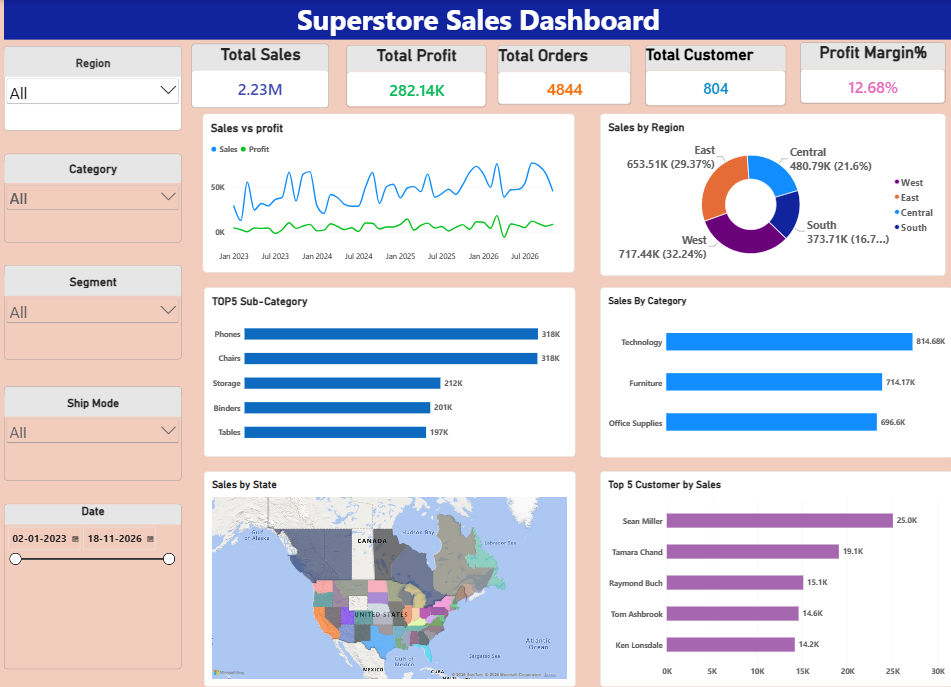

The page's visual inventory and layout, read from the dashboard file:
{"tool":"powerbi","page":{"name":"Page 1","canvas":[2022,1580],"ordinal":0},"visuals":[{"type":"textbox","box":[11.7,0,2009.9,83.9],"z":0},{"type":"cardVisual","title":"Total Sales","fields":{"Data":["Sum(sample_-_superstore.Sales)"]},"box":[409,91.7,291.5,136.3],"z":1000},{"type":"cardVisual","title":"Total Profit","fields":{"Data":["Sum(sample_-_superstore.Profit)"]},"box":[735.7,94,296.2,131.6],"z":2000},{"type":"cardVisual","title":" Total Orders","fields":{"Data":["Count(sample_-_superstore.Order ID)"]},"box":[1055.4,94,282.1,126.9],"z":3000},{"type":"cardVisual","title":"Total Customer","fields":{"Data":["Count(sample_-_superstore.Customer ID)"]},"box":[1368.1,94,298.5,129.3],"z":4000},{"type":"cardVisual","title":"Profit Margin%","fields":{"Data":["sample_-_superstore.profit Margin"]},"box":[1697.1,89.3,307.9,129.3],"z":5000},{"type":"slicer","title":"Region","fields":{"Values":["sample_-_superstore.Region"]},"box":[11.8,98.7,376.1,178.6],"z":6000},{"type":"slicer","title":"Category","fields":{"Values":["sample_-_superstore.Category"]},"box":[11.8,324.4,376.1,188],"z":7000},{"type":"slicer","title":"Segment","fields":{"Values":["sample_-_superstore.Segment"]},"box":[11.8,561.8,376.1,199.8],"z":8000},{"type":"slicer","title":"Ship Mode","fields":{"Values":["sample_-_superstore.Ship Mode"]},"box":[11.8,818,376.1,199.8],"z":9000},{"type":"slicer","title":"Date","fields":{"Values":["sample_-_superstore.Order Date"]},"box":[11.8,1067.2,376.1,350.2],"z":10000},{"type":"lineChart","title":"Sales vs profit","fields":{"Category":["sample_-_superstore.Order Date.Variation.Date Hierarchy.Year","sample_-_superstore.Order Date.Variation.Date Hierarchy.Month"],"Y":["Sum(sample_-_superstore.Sales)","Sum(sample_-_superstore.Profit)"]},"box":[432.5,242.1,787.5,336.1],"z":11000},{"type":"donutChart","title":"Sales by Region","fields":{"Category":["sample_-_superstore.Region"],"Y":["Sum(sample_-_superstore.Sales)"]},"box":[1274,242.1,731,343.2],"z":11001},{"type":"clusteredBarChart","title":"Sales By Category","fields":{"Category":["sample_-_superstore.Category"],"Y":["Sum(sample_-_superstore.Sales)"]},"box":[1274,608.8,747.5,359.6],"z":11002},{"type":"clusteredBarChart","title":" TOP5 Sub-Category ","fields":{"Y":["Sum(sample_-_superstore.Sales)"],"Category":["sample_-_superstore.Sub-Category"]},"box":[433.8,610.2,786.6,358.6],"z":11003},{"type":"filledMap","title":"Sales by State","fields":{"Category":["sample_-_superstore.State/Province"],"Series":["sample_-_superstore.Sales"]},"box":[434.9,999,787.5,458.4],"z":11004},{"type":"clusteredBarChart","title":"Top 5 Customer by Sales","fields":{"Category":["sample_-_superstore.Customer Name"],"Y":["Sum(sample_-_superstore.Sales)"]},"box":[1274,999,747,458],"z":11005}]}

Visuals, with their boxes on the page's 2022x1580 design canvas (x1, y1, x2, y2). These are canvas units, not pixel positions in the 951x687 screenshot, which may show the page scaled, cropped or inside an application window:
textbox: 12, 0, 2022, 84
"Total Sales" cardVisual: 409, 92, 700, 228
"Total Profit" cardVisual: 736, 94, 1032, 226
" Total Orders" cardVisual: 1055, 94, 1338, 221
"Total Customer" cardVisual: 1368, 94, 1667, 223
"Profit Margin%" cardVisual: 1697, 89, 2005, 219
"Region" slicer: 12, 99, 388, 277
"Category" slicer: 12, 324, 388, 512
"Segment" slicer: 12, 562, 388, 762
"Ship Mode" slicer: 12, 818, 388, 1018
"Date" slicer: 12, 1067, 388, 1417
"Sales vs profit" lineChart: 432, 242, 1220, 578
"Sales by Region" donutChart: 1274, 242, 2005, 585
"Sales By Category" clusteredBarChart: 1274, 609, 2022, 968
" TOP5 Sub-Category " clusteredBarChart: 434, 610, 1220, 969
"Sales by State" filledMap: 435, 999, 1222, 1457
"Top 5 Customer by Sales" clusteredBarChart: 1274, 999, 2021, 1457
